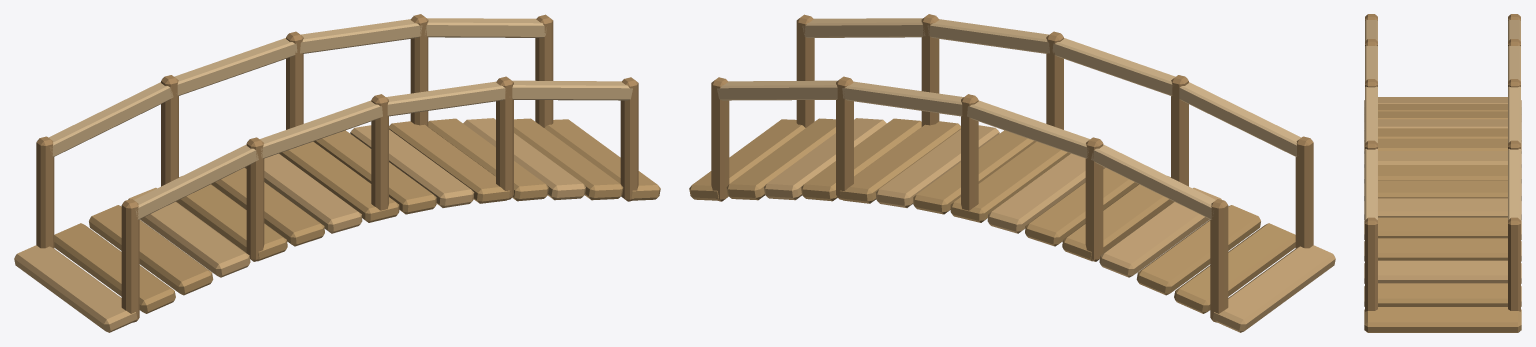
The model's file is footbridge.glb.
3 renders of one model, left to right at view 1: azimuth 30°, elevation 25°; view 2: azimuth 150°, elevation 25°; view 3: azimuth 270°, elevation 25°, orthographic. The views are drawn at different scales.
Parts seen in each view (by area): view 1: BridgePlank, _MeshInstance3D_1057, _MeshInstance3D_1058, _MeshInstance3D_1059, _MeshInstance3D_1062, _MeshInstance3D_1063, _MeshInstance3D_1066, _MeshInstance3D_1065, _MeshInstance3D_1060, _MeshInstance3D_1064, _MeshInstance3D_1061, _MeshInstance3D_1069 (+21 smaller); view 2: BridgePlank, _MeshInstance3D_1057, _MeshInstance3D_1058, _MeshInstance3D_1059, _MeshInstance3D_1062, _MeshInstance3D_1063, _MeshInstance3D_1066, _MeshInstance3D_1065, _MeshInstance3D_1060, _MeshInstance3D_1064, _MeshInstance3D_1061, _MeshInstance3D_1069 (+21 smaller); view 3: _MeshInstance3D_1070, _MeshInstance3D_1068, _MeshInstance3D_1069, _MeshInstance3D_1067, _MeshInstance3D_1066, _MeshInstance3D_1065, _MeshInstance3D_1064, _MeshInstance3D_1063, _MeshInstance3D_1062, _MeshInstance3D_1061, _MeshInstance3D_1060, _MeshInstance3D_1059 (+13 smaller).
Part boxes in pixels (<box>): BridgePlank: <box>14,245,137,332</box>; _MeshInstance3D_1057: <box>54,223,175,313</box>; _MeshInstance3D_1058: <box>89,205,213,295</box>; _MeshInstance3D_1059: <box>128,187,250,277</box>; _MeshInstance3D_1062: <box>245,153,362,233</box>; _MeshInstance3D_1063: <box>279,141,399,222</box>; _MeshInstance3D_1066: <box>389,121,510,203</box>; _MeshInstance3D_1065: <box>350,125,474,207</box>; _MeshInstance3D_1060: <box>176,176,287,261</box>; _MeshInstance3D_1064: <box>313,130,436,214</box>; _MeshInstance3D_1061: <box>211,167,324,246</box>; _MeshInstance3D_1069: <box>514,118,623,200</box>; BridgePlank: <box>1212,245,1335,332</box>; _MeshInstance3D_1057: <box>1174,223,1295,313</box>; _MeshInstance3D_1058: <box>1136,205,1260,295</box>; _MeshInstance3D_1059: <box>1099,187,1221,277</box>; _MeshInstance3D_1062: <box>987,153,1104,233</box>; _MeshInstance3D_1063: <box>950,141,1070,222</box>; _MeshInstance3D_1066: <box>839,121,960,203</box>; _MeshInstance3D_1065: <box>875,125,999,207</box>; _MeshInstance3D_1060: <box>1062,176,1173,261</box>; _MeshInstance3D_1064: <box>913,130,1036,214</box>; _MeshInstance3D_1061: <box>1025,167,1138,246</box>; _MeshInstance3D_1069: <box>726,118,835,200</box>; _MeshInstance3D_1070: <box>1364,307,1521,332</box>; _MeshInstance3D_1068: <box>1364,260,1521,283</box>; _MeshInstance3D_1069: <box>1364,283,1521,306</box>; _MeshInstance3D_1067: <box>1364,238,1521,261</box>; _MeshInstance3D_1066: <box>1364,217,1521,239</box>; _MeshInstance3D_1065: <box>1364,198,1521,219</box>; _MeshInstance3D_1064: <box>1364,180,1521,200</box>; _MeshInstance3D_1063: <box>1364,165,1521,183</box>; _MeshInstance3D_1062: <box>1364,151,1521,167</box>; _MeshInstance3D_1061: <box>1364,138,1521,153</box>; _MeshInstance3D_1060: <box>1364,128,1521,141</box>; _MeshInstance3D_1059: <box>1364,119,1521,131</box>.
Size of the model in its own units: 3.84 by 1.11 by 1.12.
